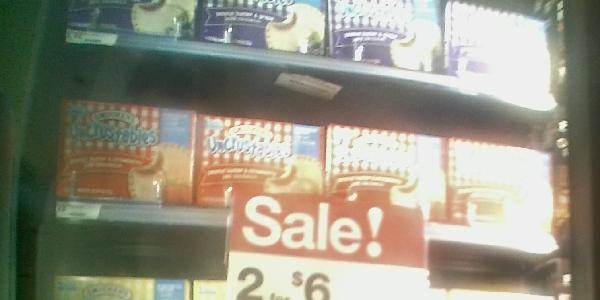icecream: (53, 91, 198, 222), (190, 101, 327, 225), (329, 120, 449, 223), (442, 134, 549, 237)
